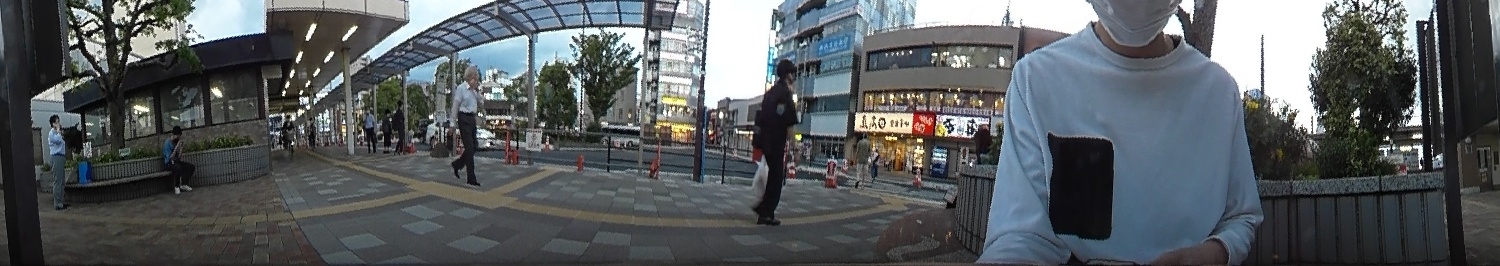difficult_person: (389, 100, 409, 155), (360, 103, 377, 148), (377, 108, 393, 152), (281, 111, 295, 154)
person: (746, 47, 802, 224), (939, 123, 1000, 210), (453, 62, 489, 184), (158, 122, 200, 189), (45, 111, 69, 211), (853, 125, 873, 182)
